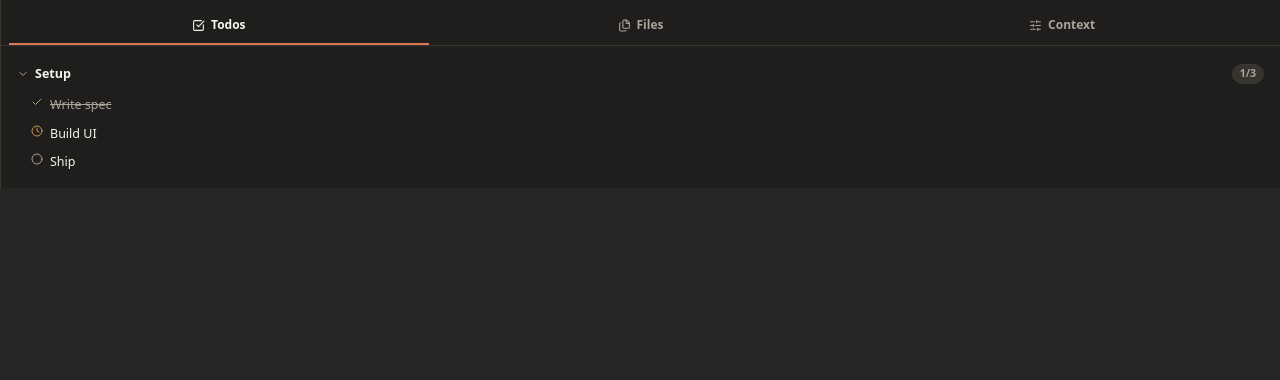
Test: RightPanel › switches to the Context tab and shows the model controls
Click the tab "Context" at [1062, 26], box 852,8 -> 1272,45
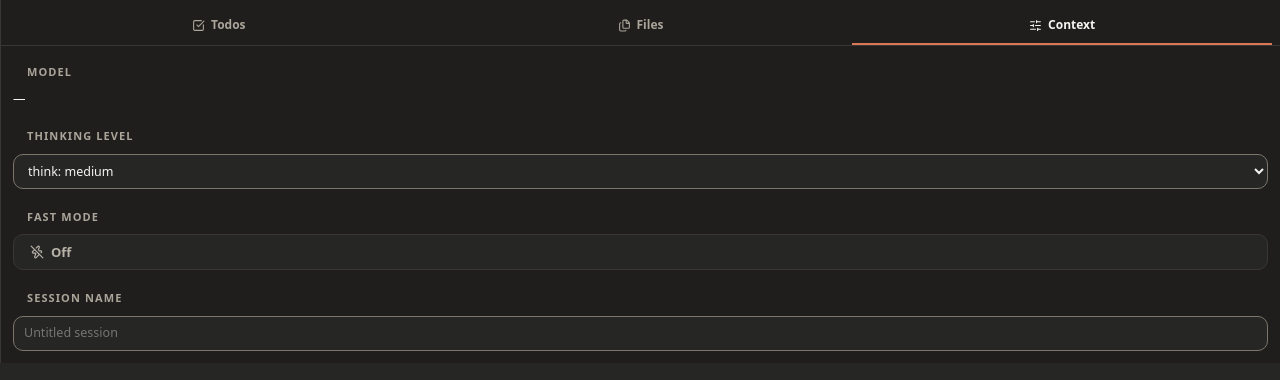
Check: the text "Model" is shown, box 27,64 -> 72,79
Check: the text "Thinking level" is shown, box 27,128 -> 134,143
